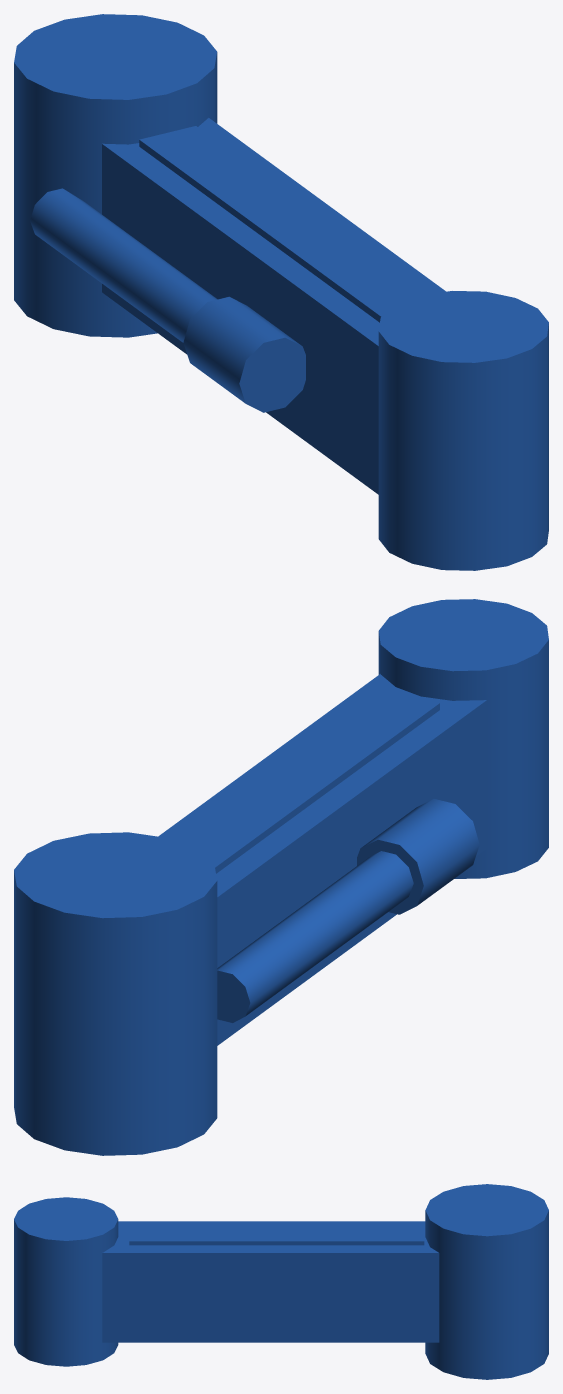
Rendered from arm_loader_upper.obj.
The picture shows the model from 3 angles, top to bottom: view 1: azimuth 30°, elevation 25°; view 2: azimuth 150°, elevation 25°; view 3: azimuth 270°, elevation 25°; orthographic projection. The views are drawn at different scales.
Parts seen in each view (by area): view 1: machine_blue; view 2: machine_blue; view 3: machine_blue.
Part boxes in pixels (x1,y1,x2,y2): machine_blue: (14,14,548,570); machine_blue: (14,599,548,1155); machine_blue: (14,1184,548,1379).
Size of the model in its own units: 0.25 by 0.272 by 0.918.
